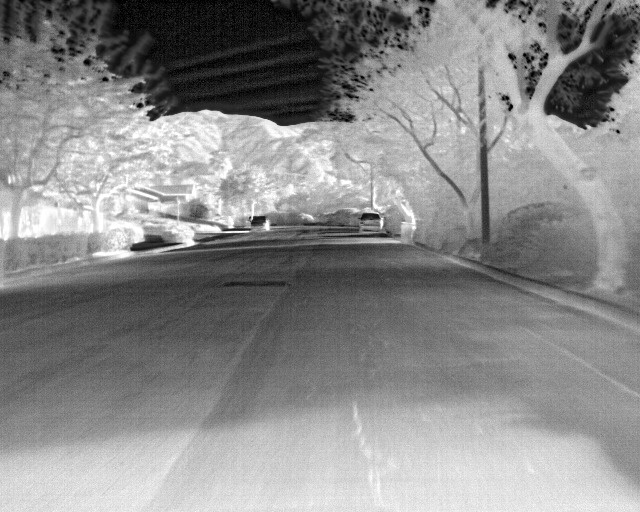vehicle: (358, 212, 383, 233), (249, 215, 269, 233)
